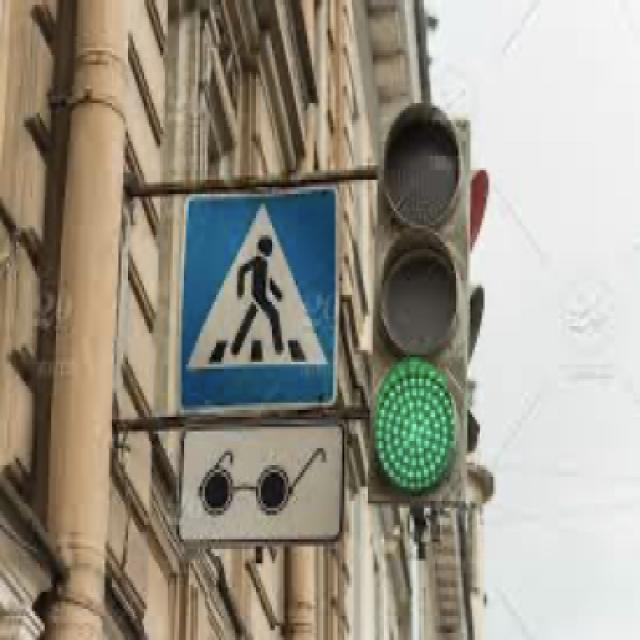crosswalk: (176, 180, 336, 407)
trafficlight: (366, 98, 471, 506)
